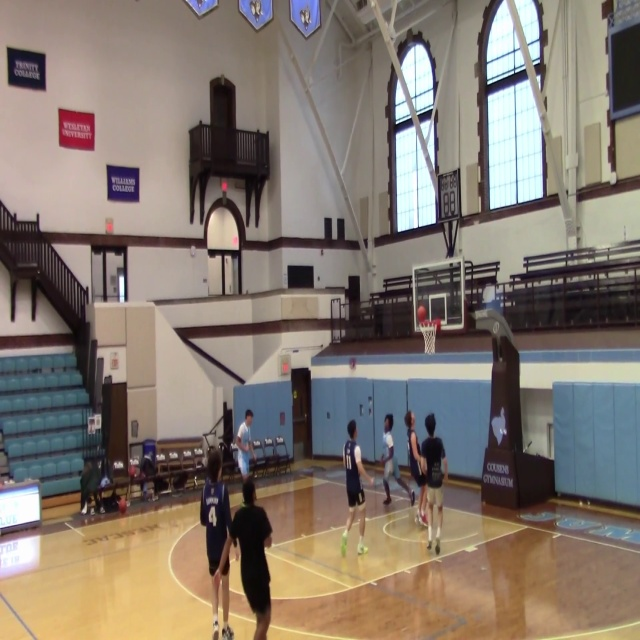Basketball: (416, 305, 426, 323), (118, 499, 127, 513)
